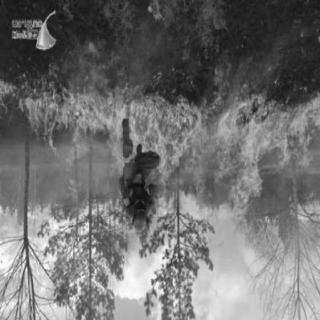Fire: (4, 57, 314, 237)
